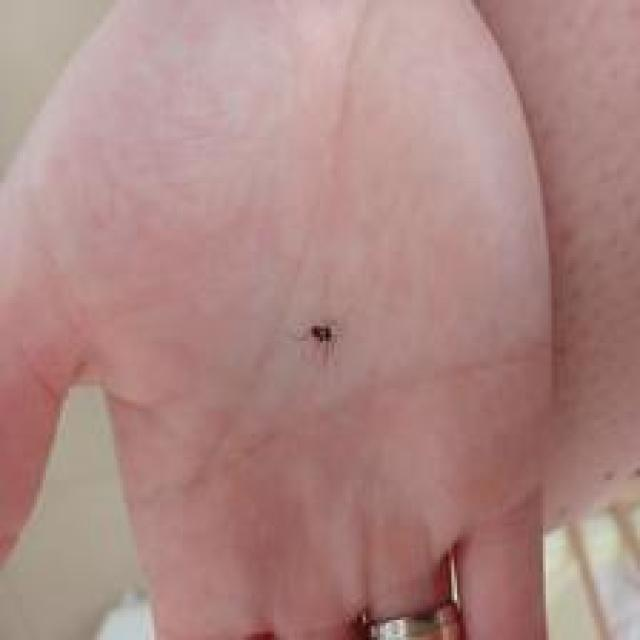Aedes albopictus: (307, 317, 342, 363)
